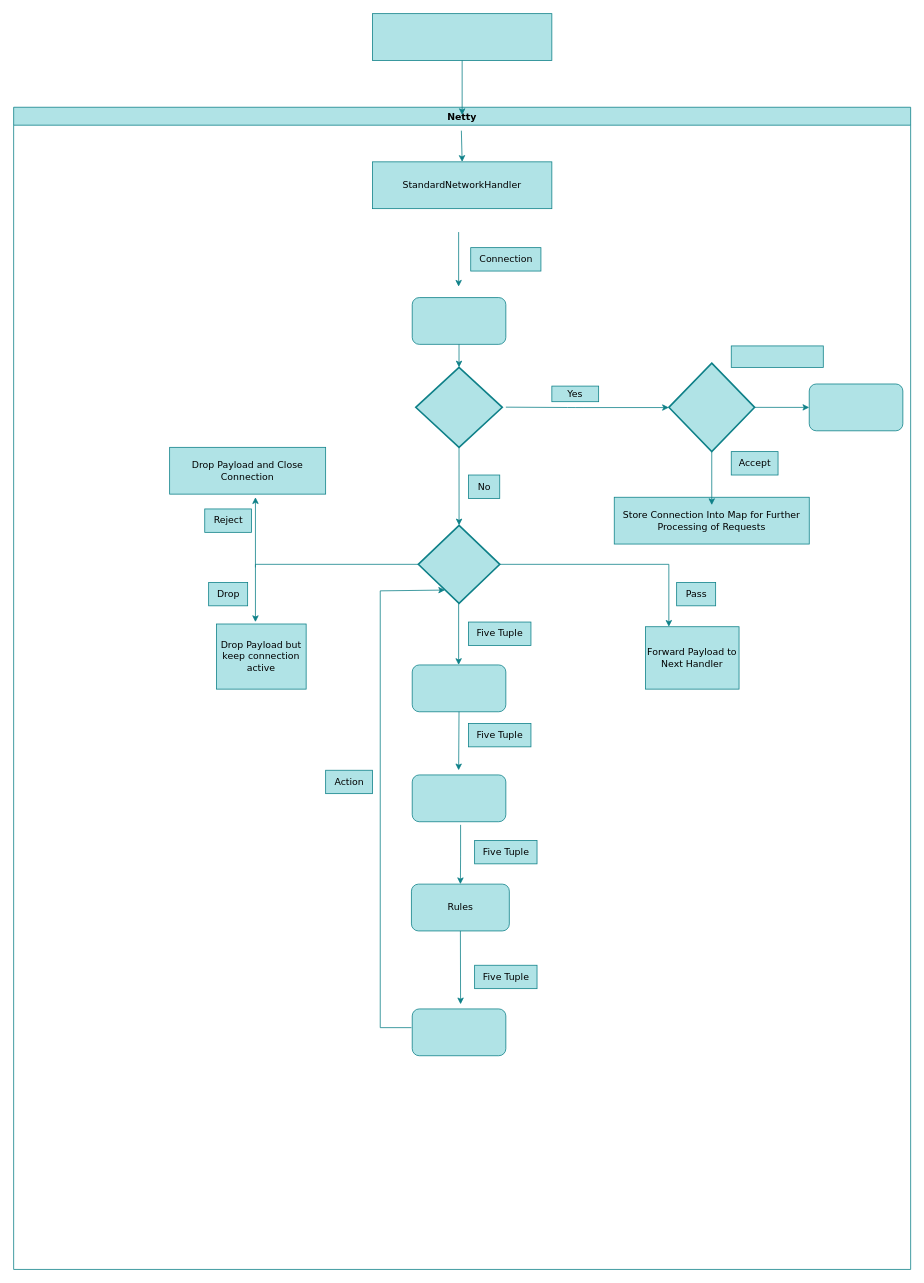
Some shapes in this 924 by 1283 pixel diagram are drawn without their labels. The centre of each missing label's shape, as x and y in pixels:
"Close the Connection" goes at point (855, 407).
"Drop / Reject" goes at point (776, 356).
"Filter Payload" goes at point (458, 564).
"Five-Tuple" goes at point (458, 320).
"Fllter Channel Active" goes at point (711, 407).
"Incoming Connection" goes at point (462, 36).
"New Connection" goes at point (459, 407).
"Priority Based Table" goes at point (458, 798).
"Rule" goes at point (458, 1032).
"Tables" goes at point (458, 688).
